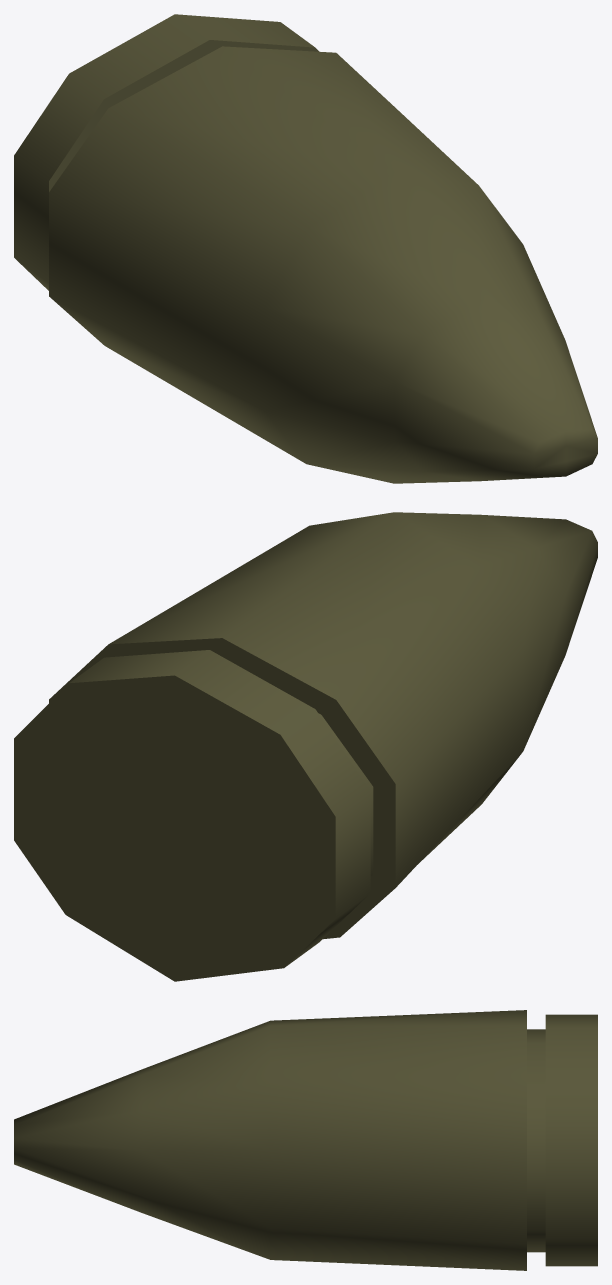
The model's file is machinegun_projectile.fbx.
3 renders of one model, top to bottom at view 1: azimuth 30°, elevation 25°; view 2: azimuth 150°, elevation 25°; view 3: azimuth 270°, elevation 25°, orthographic. The views are drawn at different scales.
Parts seen in each view (by area): view 1: machinegun_projectile; view 2: machinegun_projectile; view 3: machinegun_projectile.
Boxes of the visible parts, box(x1,y1,x2,y2) form: machinegun_projectile: box(14, 14, 597, 483); machinegun_projectile: box(14, 512, 597, 981); machinegun_projectile: box(14, 1010, 597, 1270).
Bounding box in the file's own units: 233 × 200 × 455.
